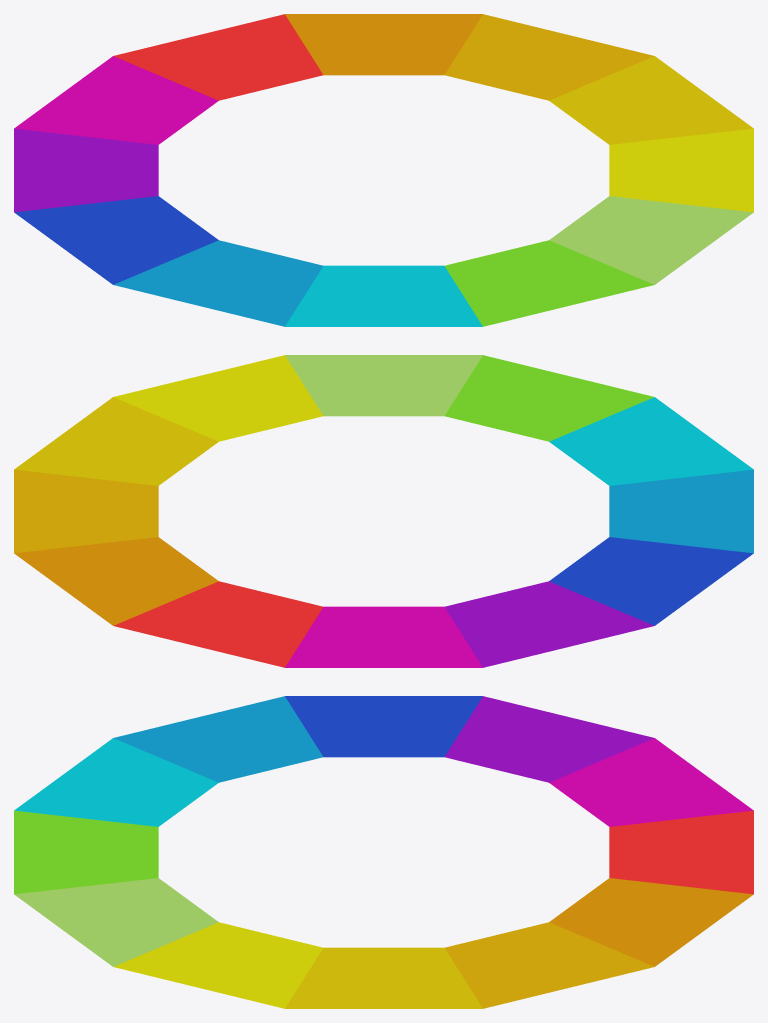
Rendered from color_wheel_flat.fbx.
3 views of the same model, one above another, from view 1: azimuth 30°, elevation 25°; view 2: azimuth 150°, elevation 25°; view 3: azimuth 270°, elevation 25° (orthographic).
Visible parts, largest first — view 1: w_clr_2, w_clr_8, w_clr_1, w_clr_3, w_clr_7, w_clr_9, w_clr_4, w_clr_6, w_clr_10, w_clr_12, w_clr_5, w_clr_11; view 2: w_clr_6, w_clr_12, w_clr_1, w_clr_5, w_clr_7, w_clr_11, w_clr_2, w_clr_4, w_clr_8, w_clr_10, w_clr_3, w_clr_9; view 3: w_clr_4, w_clr_10, w_clr_3, w_clr_5, w_clr_9, w_clr_11, w_clr_2, w_clr_6, w_clr_8, w_clr_12, w_clr_1, w_clr_7.
Boxes of the visible parts, bbox=[...] form: w_clr_2: bbox=[285, 14, 482, 75]; w_clr_8: bbox=[285, 265, 482, 326]; w_clr_1: bbox=[113, 14, 323, 100]; w_clr_3: bbox=[444, 14, 654, 100]; w_clr_7: bbox=[444, 240, 654, 326]; w_clr_9: bbox=[113, 240, 323, 326]; w_clr_4: bbox=[549, 56, 753, 144]; w_clr_6: bbox=[549, 196, 753, 284]; w_clr_10: bbox=[14, 196, 218, 284]; w_clr_12: bbox=[14, 56, 218, 144]; w_clr_5: bbox=[609, 128, 753, 212]; w_clr_11: bbox=[14, 128, 158, 212]; w_clr_6: bbox=[285, 355, 482, 416]; w_clr_12: bbox=[285, 606, 482, 667]; w_clr_1: bbox=[113, 581, 323, 667]; w_clr_5: bbox=[113, 355, 323, 441]; w_clr_7: bbox=[444, 355, 654, 441]; w_clr_11: bbox=[444, 581, 654, 667]; w_clr_2: bbox=[14, 537, 218, 625]; w_clr_4: bbox=[14, 397, 218, 485]; w_clr_8: bbox=[549, 397, 753, 485]; w_clr_10: bbox=[549, 537, 753, 625]; w_clr_3: bbox=[14, 469, 158, 553]; w_clr_9: bbox=[609, 469, 753, 553]; w_clr_4: bbox=[285, 947, 482, 1008]; w_clr_10: bbox=[285, 696, 482, 757]; w_clr_3: bbox=[444, 922, 654, 1008]; w_clr_5: bbox=[113, 922, 323, 1008]; w_clr_9: bbox=[113, 696, 323, 782]; w_clr_11: bbox=[444, 696, 654, 782]; w_clr_2: bbox=[549, 878, 753, 966]; w_clr_6: bbox=[14, 878, 218, 966]; w_clr_8: bbox=[14, 738, 218, 826]; w_clr_12: bbox=[549, 738, 753, 826]; w_clr_1: bbox=[609, 810, 753, 894]; w_clr_7: bbox=[14, 810, 158, 894].
Size of the model in its own units: 193 by 3.15e-05 by 193.
